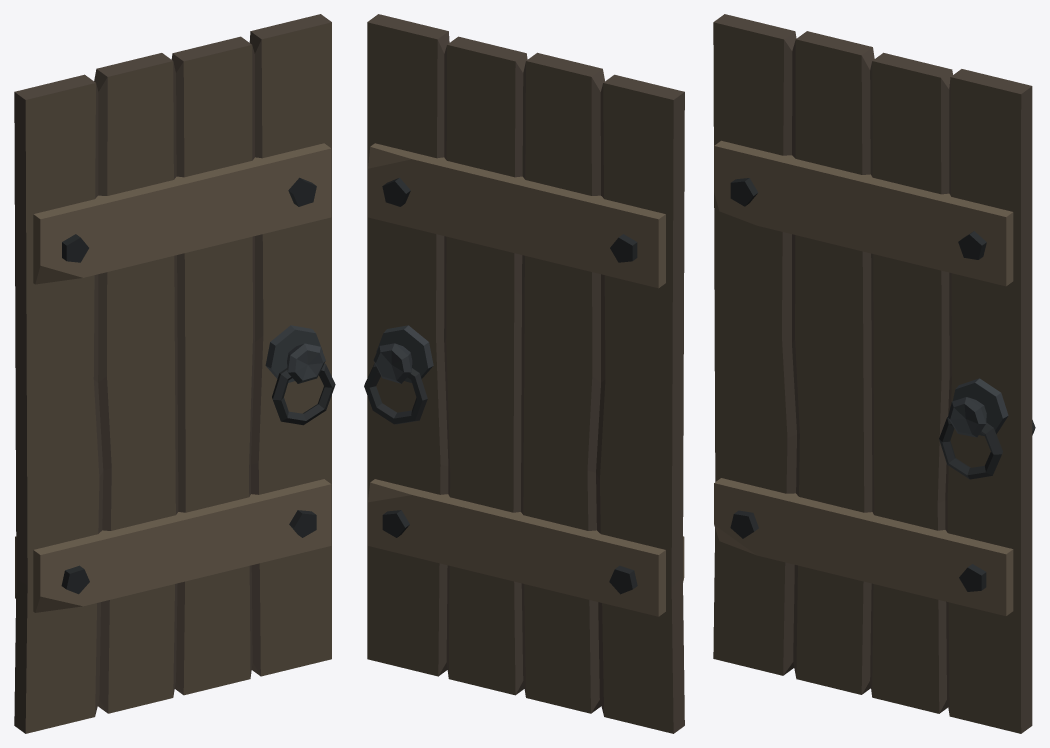
Rendered from SM_Bld_Village_Door_Basic_01.glb.
The picture shows the model from 3 angles, left to right: view 1: azimuth 30°, elevation 25°; view 2: azimuth 150°, elevation 25°; view 3: azimuth 330°, elevation 25°; orthographic projection.
Parts seen in each view (by area): view 1: SM_Bld_Village_Door_Basic_01; view 2: SM_Bld_Village_Door_Basic_01; view 3: SM_Bld_Village_Door_Basic_01.
Part boxes in pixels (bbox=[...]): SM_Bld_Village_Door_Basic_01: bbox=[14, 14, 335, 733]; SM_Bld_Village_Door_Basic_01: bbox=[364, 14, 684, 733]; SM_Bld_Village_Door_Basic_01: bbox=[713, 14, 1035, 733].
Size of the model in its own units: 1.21 by 2.39 by 0.3068.
Materials: 1 (1 with a texture image).
